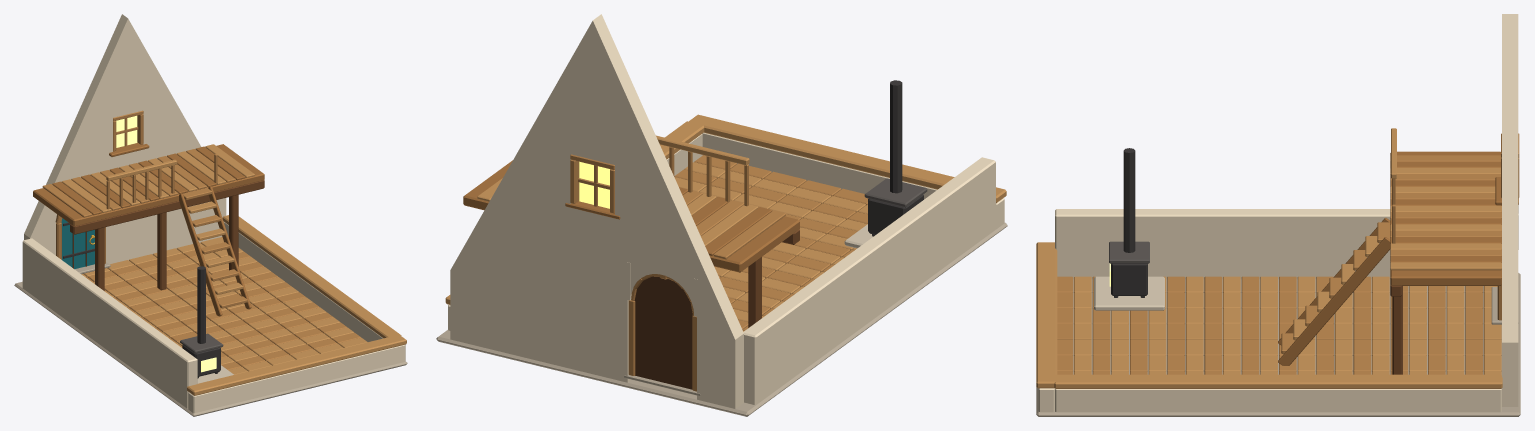
File: aframe_cabin_t2_interior.glb
The picture shows the model from 3 angles, left to right: view 1: azimuth 30°, elevation 25°; view 2: azimuth 150°, elevation 25°; view 3: azimuth 270°, elevation 25°; orthographic projection. The views are drawn at different scales.
Visible parts, largest first — view 1: aframe_cabin_t2_interior, part_door_leaf; view 2: aframe_cabin_t2_interior; view 3: aframe_cabin_t2_interior.
Boxes of the visible parts, left/top/right/bottom form: aframe_cabin_t2_interior: left=14, top=14, right=407, bottom=416; part_door_leaf: left=61, top=218, right=94, bottom=269; aframe_cabin_t2_interior: left=436, top=14, right=1007, bottom=416; aframe_cabin_t2_interior: left=1036, top=14, right=1520, bottom=416.
Size of the model in its own units: 4.5 by 4.93 by 6.5.
